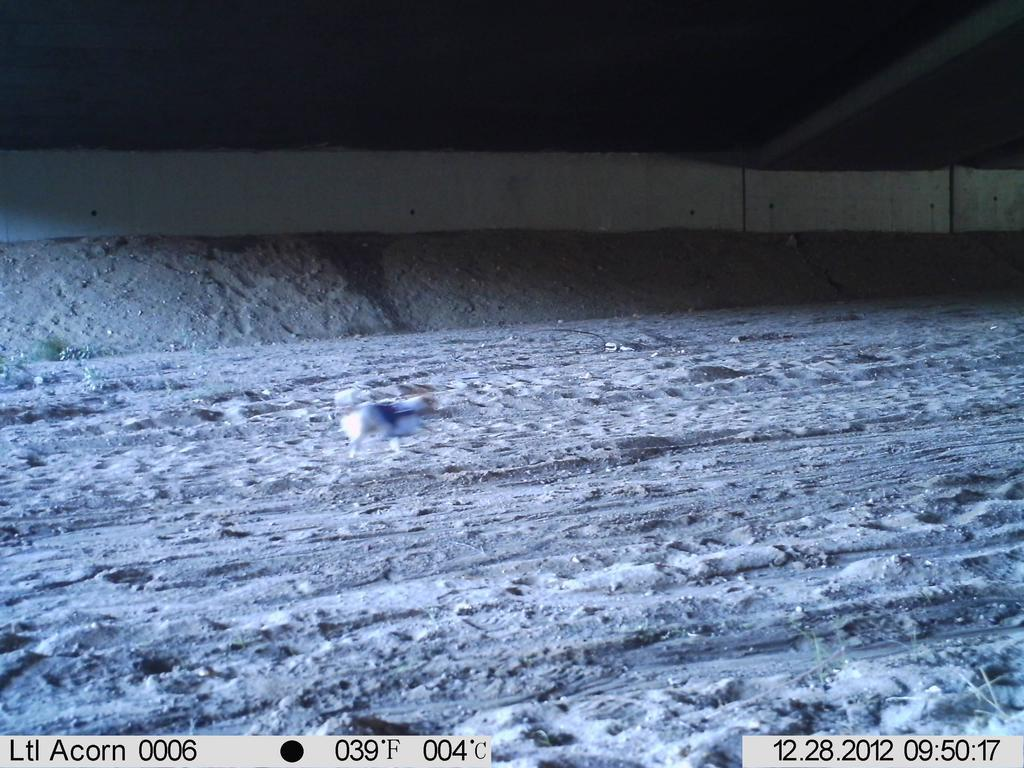dog: (332, 382, 443, 468)
